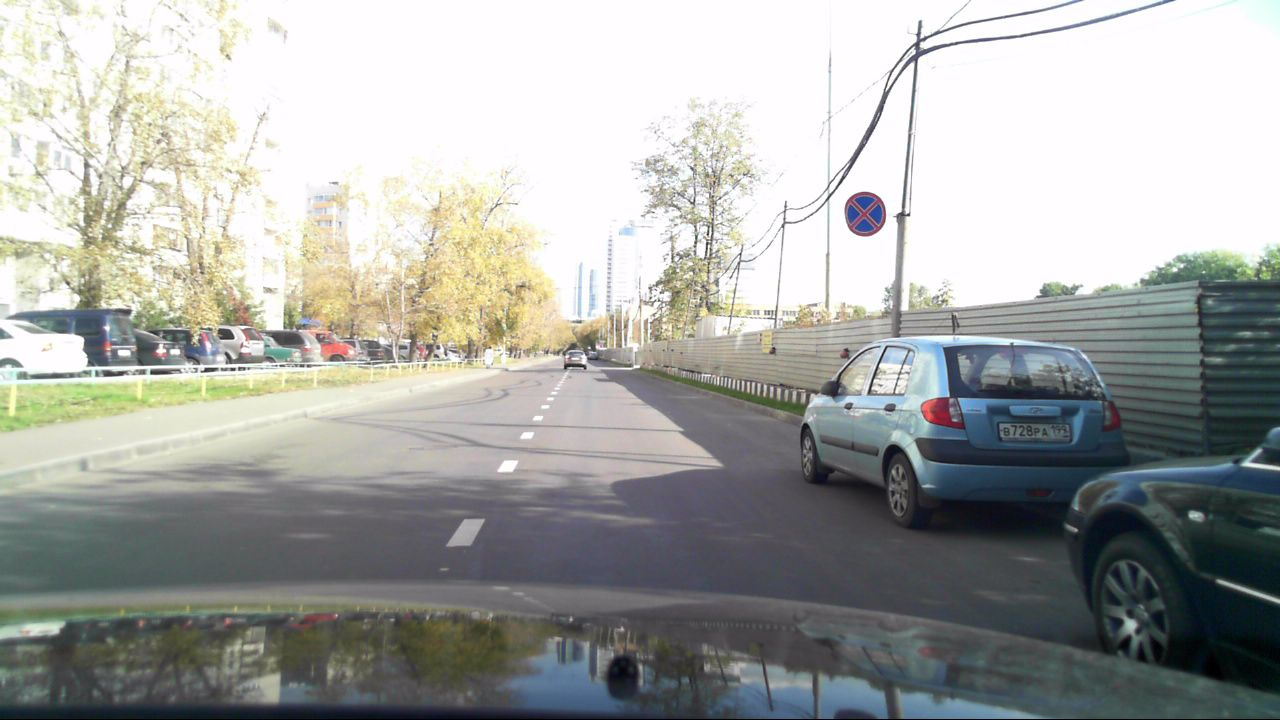No Parking: (840, 188, 885, 238)
